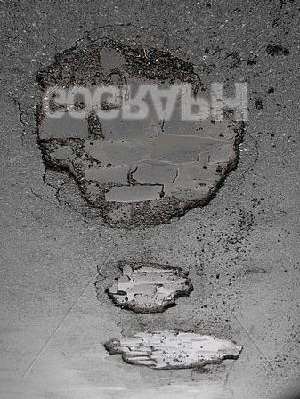pothole: (28, 37, 248, 236), (100, 334, 244, 371), (102, 261, 195, 317)
